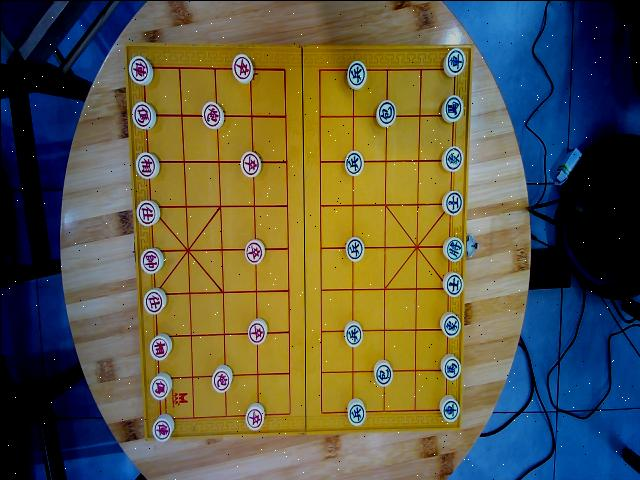piece: (128, 55, 152, 84), (135, 151, 159, 178), (443, 47, 465, 76), (132, 101, 155, 128), (232, 53, 253, 82), (136, 199, 159, 225), (143, 287, 166, 313), (140, 247, 163, 273), (149, 333, 171, 360), (211, 364, 232, 392), (152, 413, 173, 440), (202, 101, 223, 128), (441, 95, 462, 122), (150, 372, 171, 399), (347, 60, 366, 89), (441, 145, 462, 171), (439, 394, 459, 421), (375, 99, 395, 126), (440, 353, 460, 380), (247, 317, 267, 344), (442, 236, 464, 260), (442, 271, 463, 296), (240, 151, 261, 176), (440, 311, 460, 337), (244, 238, 264, 264), (373, 359, 392, 386), (245, 402, 264, 429), (347, 397, 365, 425), (344, 150, 363, 176), (442, 190, 462, 214), (344, 320, 362, 346), (345, 236, 363, 261)
